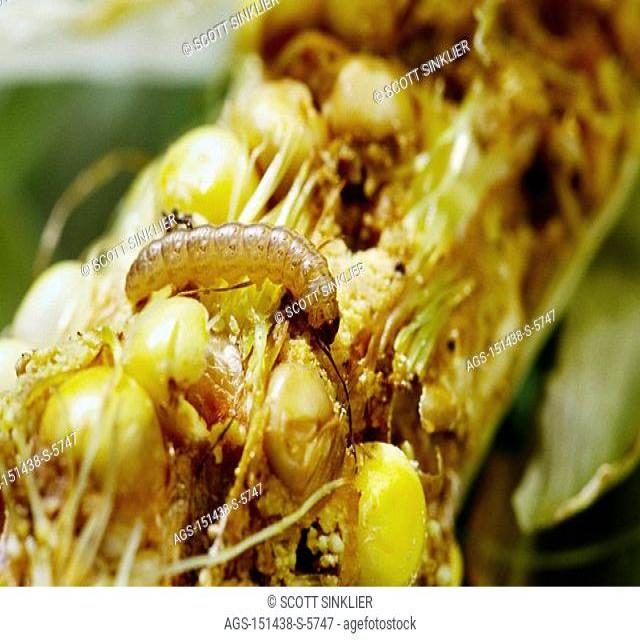cornborer-Larva-: (119, 218, 357, 352)
